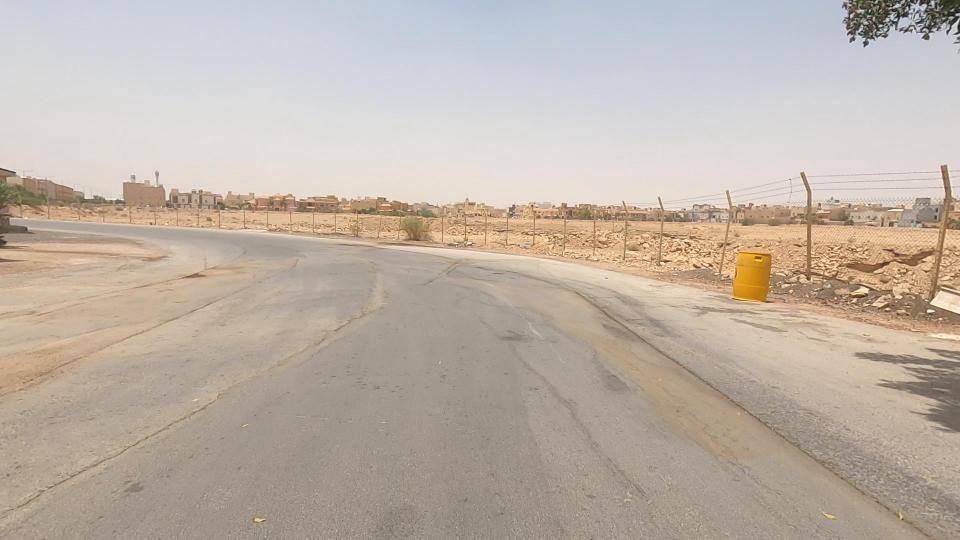POTHOLES: (570, 271, 816, 490), (93, 353, 299, 455), (258, 275, 414, 373), (390, 231, 520, 319), (139, 240, 258, 317)
